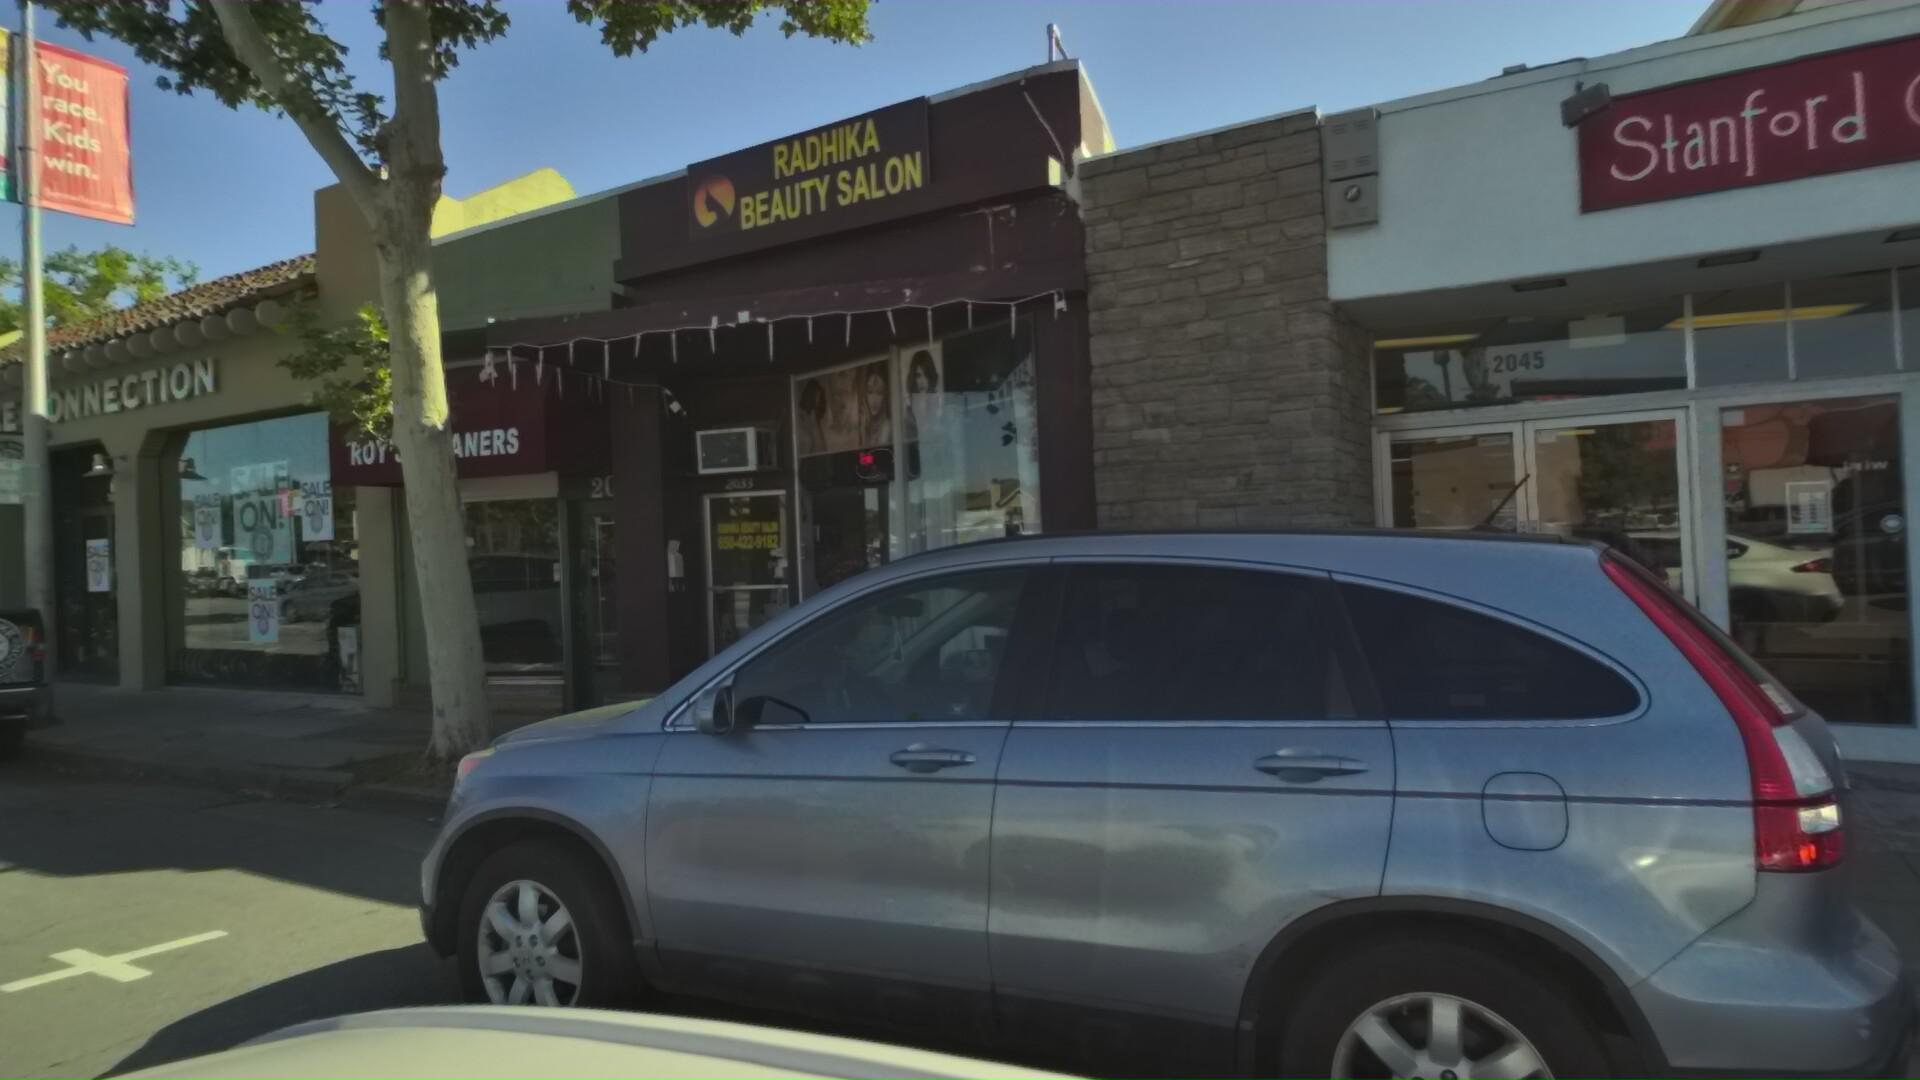car: (247, 390, 1920, 1080), (0, 502, 83, 808)
